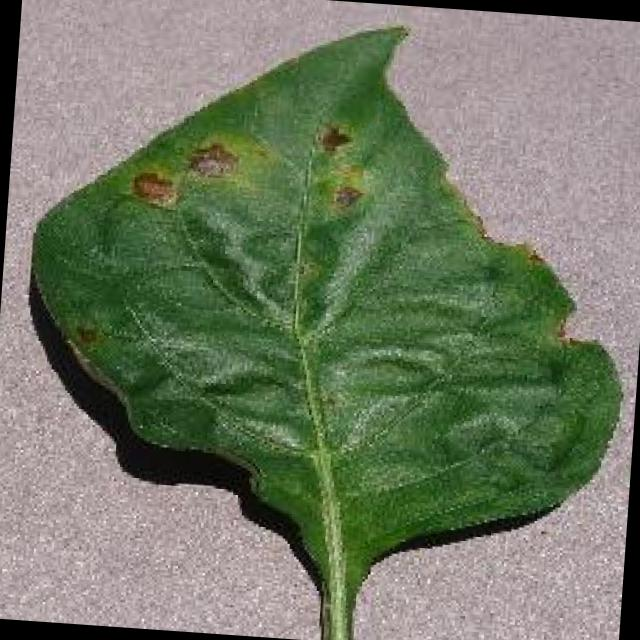Chilli_Bacterial_Spot: (1, 0, 640, 640), (122, 101, 377, 230), (122, 128, 245, 216), (302, 114, 374, 220), (182, 135, 242, 184), (320, 157, 369, 215), (125, 166, 180, 212), (310, 116, 354, 156), (324, 178, 364, 215), (67, 320, 102, 352)
